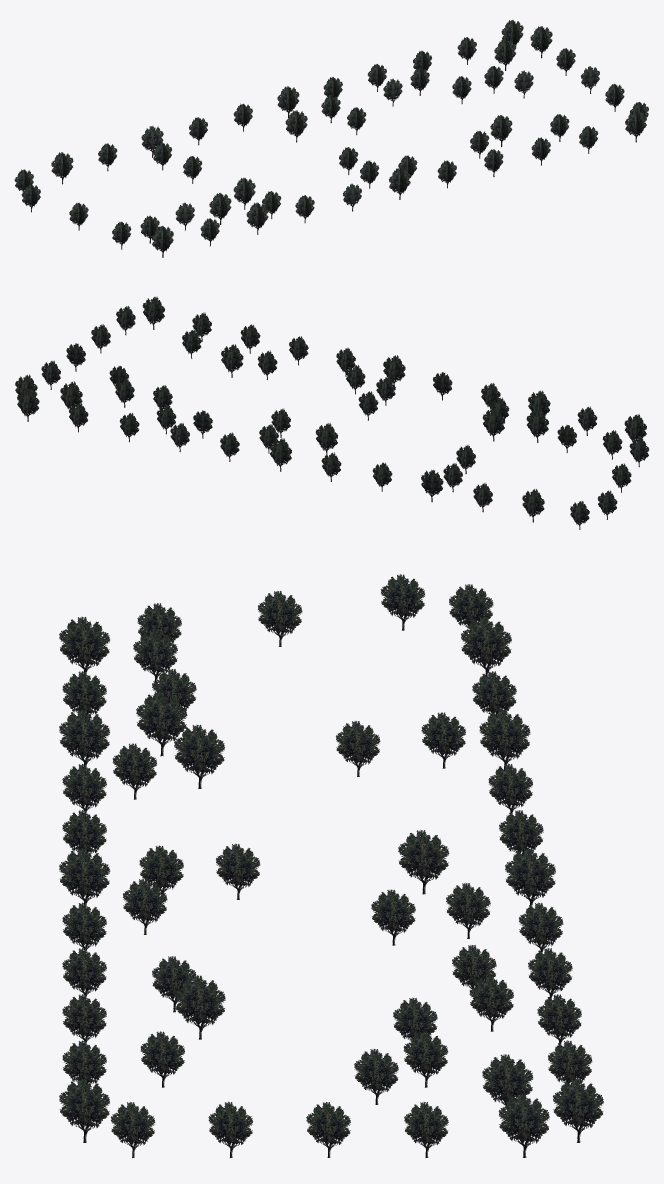
Rendered from planeTree15.FBX.
3 renders of one model, top to bottom at view 1: azimuth 30°, elevation 25°; view 2: azimuth 150°, elevation 25°; view 3: azimuth 270°, elevation 25°, orthographic. The views are drawn at different scales.
Parts seen in each view (by area): view 1: planeTree15; view 2: planeTree15; view 3: planeTree15.
Part boxes in pixels (box(x1,y1,x2,y2)): planeTree15: box(14, 20, 648, 257); planeTree15: box(15, 296, 649, 529); planeTree15: box(59, 574, 603, 1157).
Bounding box in the file's own units: 5728 × 320 × 2419.
1 material, 1 textured.
